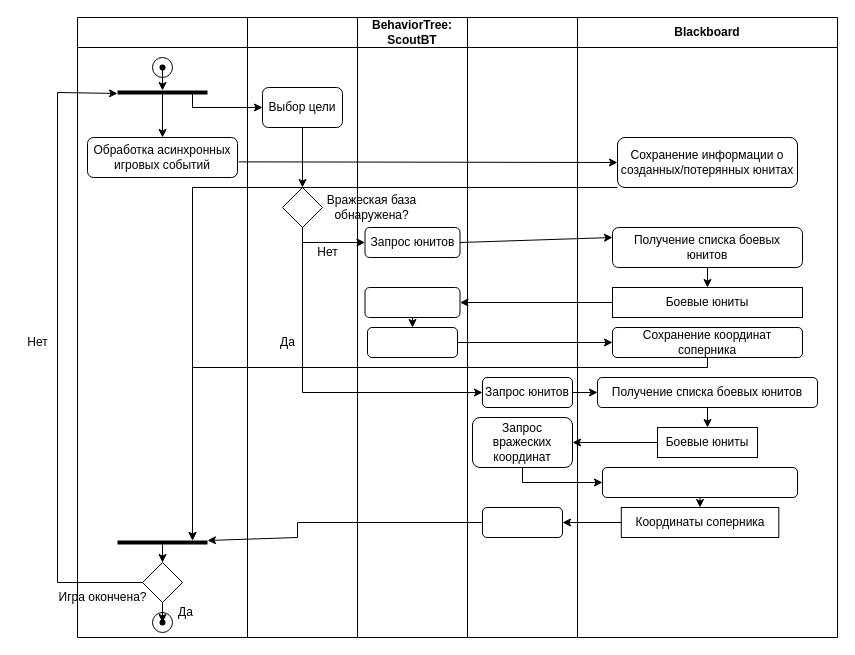
Image size: 855x655. Some labels were removed from this diagram. Each missing label, with the box of its shape:
BehaviorTree: AttackBT: (466, 16, 578, 638)
BehaviorTree: GlobalBT: (246, 16, 358, 638)
Bot: (76, 16, 248, 638)
Атака: (482, 506, 562, 538)
Выбор разведчика: (364, 286, 460, 318)
Получение координат соперника: (602, 466, 798, 498)
Разведка: (366, 326, 458, 358)
